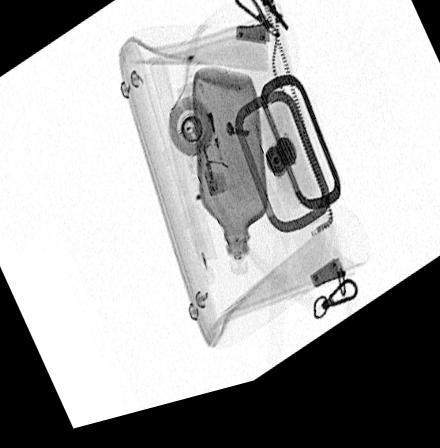Lighter: (188, 118, 229, 206)
